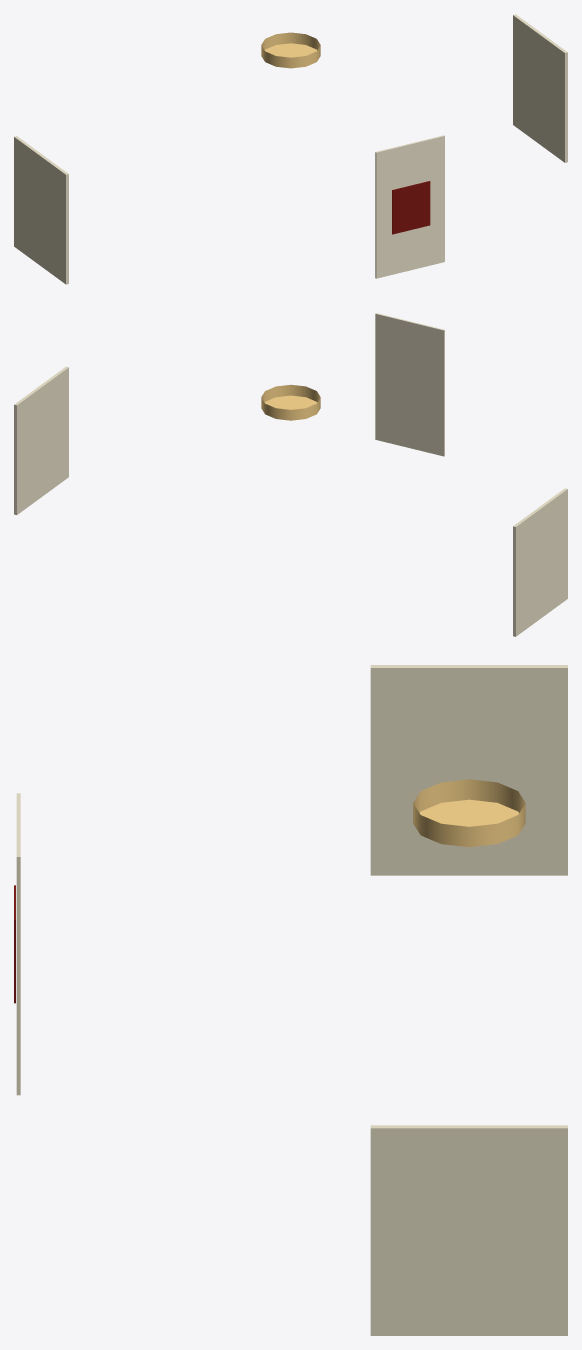
Rendered from SM_Interior_slifer_player_room_NoCol.fbx.
3 views of the same model, one above another, from view 1: azimuth 30°, elevation 25°; view 2: azimuth 150°, elevation 25°; view 3: azimuth 270°, elevation 25° (orthographic). The views are drawn at different scales.
Parts seen in each view (by area): view 1: SM_Interior_slifer_player_room_NoCol; view 2: SM_Interior_slifer_player_room_NoCol; view 3: SM_Interior_slifer_player_room_NoCol.
Boxes of the visible parts, bbox=[...] form: SM_Interior_slifer_player_room_NoCol: bbox=[14, 14, 567, 284]; SM_Interior_slifer_player_room_NoCol: bbox=[14, 313, 567, 636]; SM_Interior_slifer_player_room_NoCol: bbox=[14, 665, 567, 1335].
Size of the model in its own units: 5.84 by 1.77 by 2.95.
